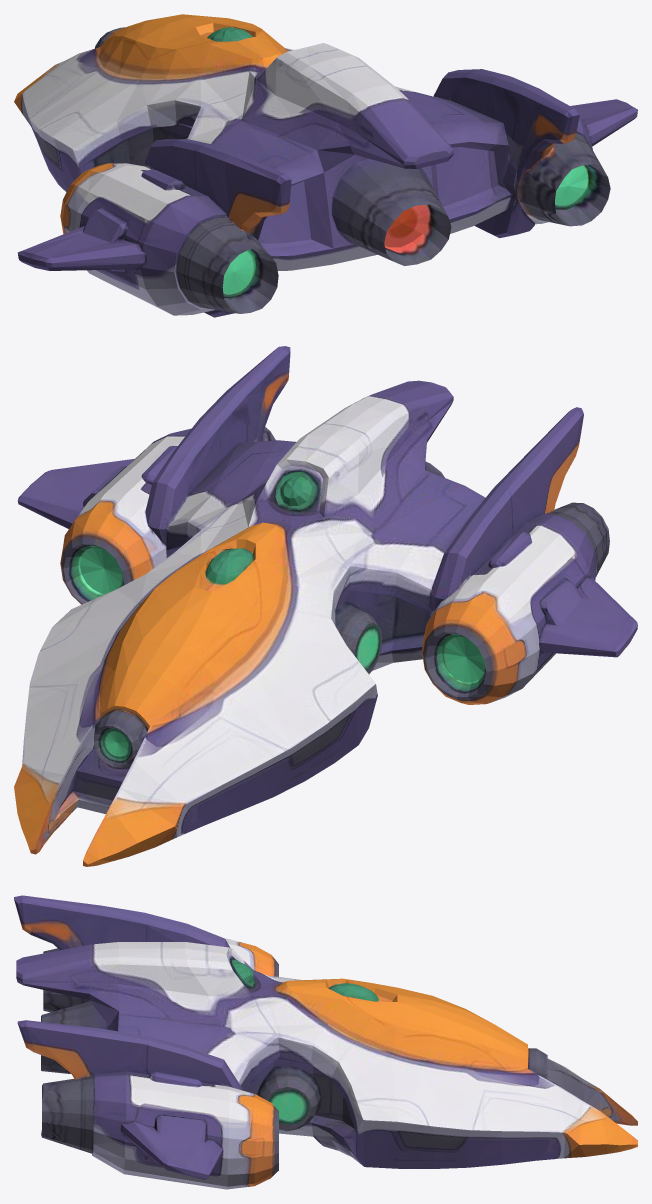
Rendered from juggernaut.glb.
3 renders of one model, top to bottom at view 1: azimuth 30°, elevation 25°; view 2: azimuth 150°, elevation 25°; view 3: azimuth 270°, elevation 25°, orthographic. The views are drawn at different scales.
Visible parts, largest first — view 1: tripo_node_262e7b2c-9aff-46d8-9a70-8198ca6ba76b; view 2: tripo_node_262e7b2c-9aff-46d8-9a70-8198ca6ba76b; view 3: tripo_node_262e7b2c-9aff-46d8-9a70-8198ca6ba76b.
Boxes of the visible parts, <box> form: tripo_node_262e7b2c-9aff-46d8-9a70-8198ca6ba76b: <box>14,14,637,317</box>; tripo_node_262e7b2c-9aff-46d8-9a70-8198ca6ba76b: <box>14,346,637,866</box>; tripo_node_262e7b2c-9aff-46d8-9a70-8198ca6ba76b: <box>14,895,637,1189</box>.
Size of the model in its own units: 1.7 by 0.6081 by 1.84.
Materials: 1 (1 with a texture image).
